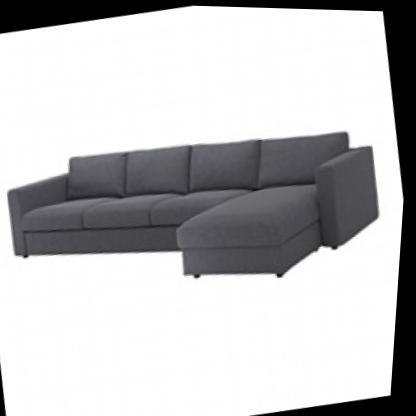Sofa: (0, 72, 405, 343)
